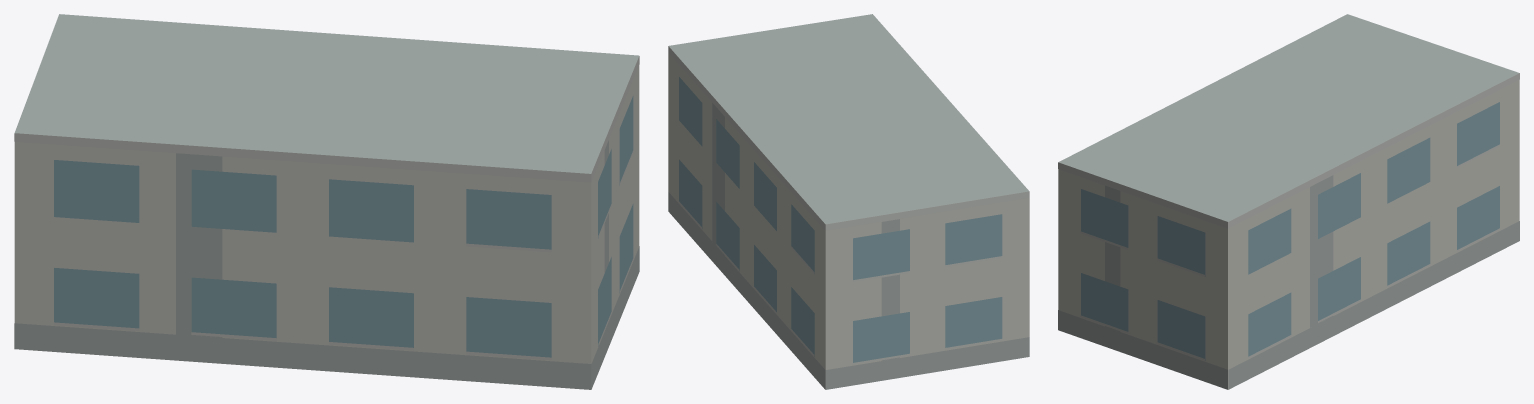
File: survey-upis-32903804.glb
3 views of the same model, side by side, from view 1: azimuth 30°, elevation 25°; view 2: azimuth 150°, elevation 25°; view 3: azimuth 270°, elevation 25° (orthographic). The views are drawn at different scales.
Parts seen in each view (by area): view 1: survey-upis-32903804.tmp; view 2: survey-upis-32903804.tmp; view 3: survey-upis-32903804.tmp.
Part boxes in pixels (<box>): survey-upis-32903804.tmp: <box>14,14,639,389</box>; survey-upis-32903804.tmp: <box>668,14,1029,389</box>; survey-upis-32903804.tmp: <box>1058,14,1519,389</box>.
Size of the model in its own units: 16.22 by 6.1 by 15.21.
